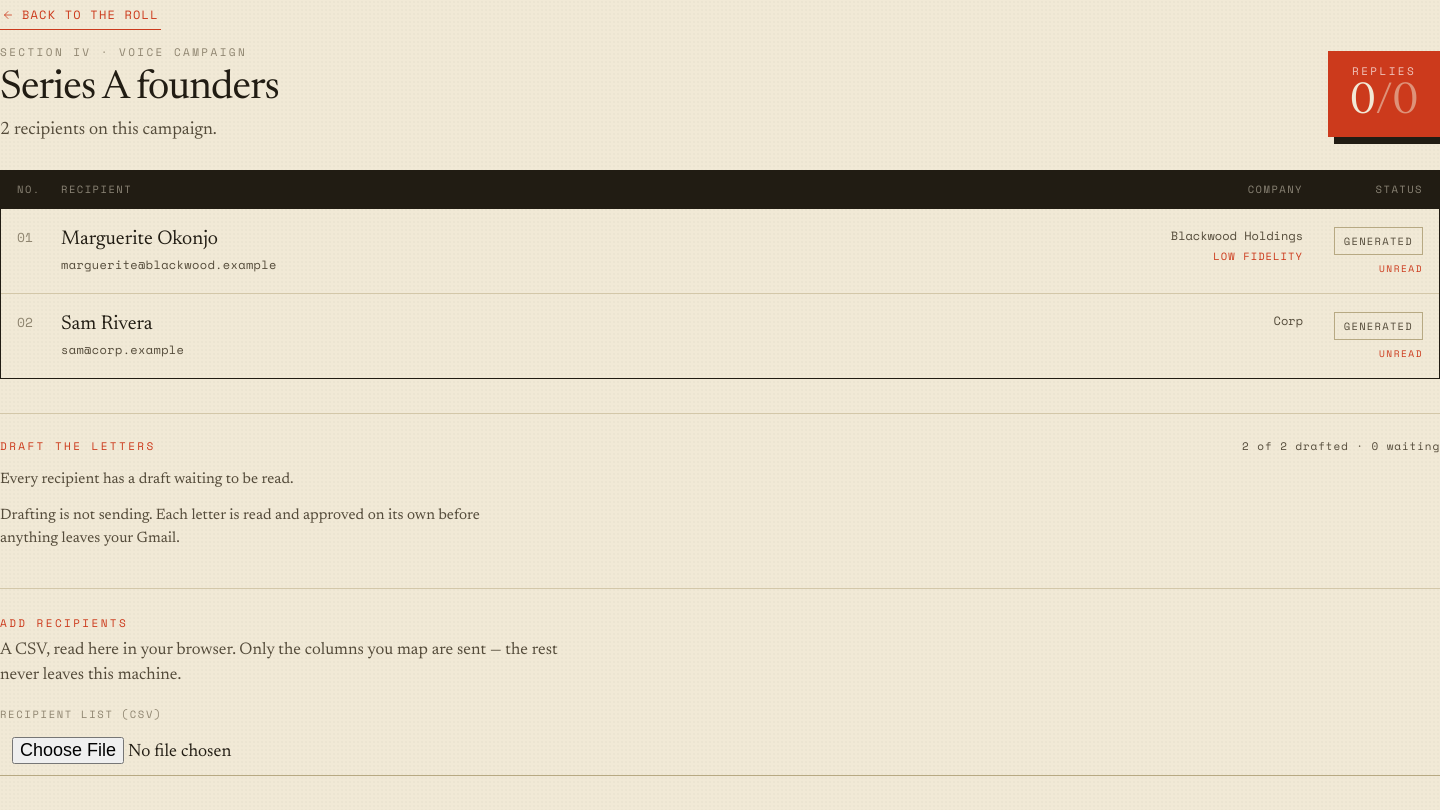
Scenario: the campaign review list › fetches that one letter when its row is opened
Click the text "Marguerite Okonjo": (140, 239) [61,229,218,249]
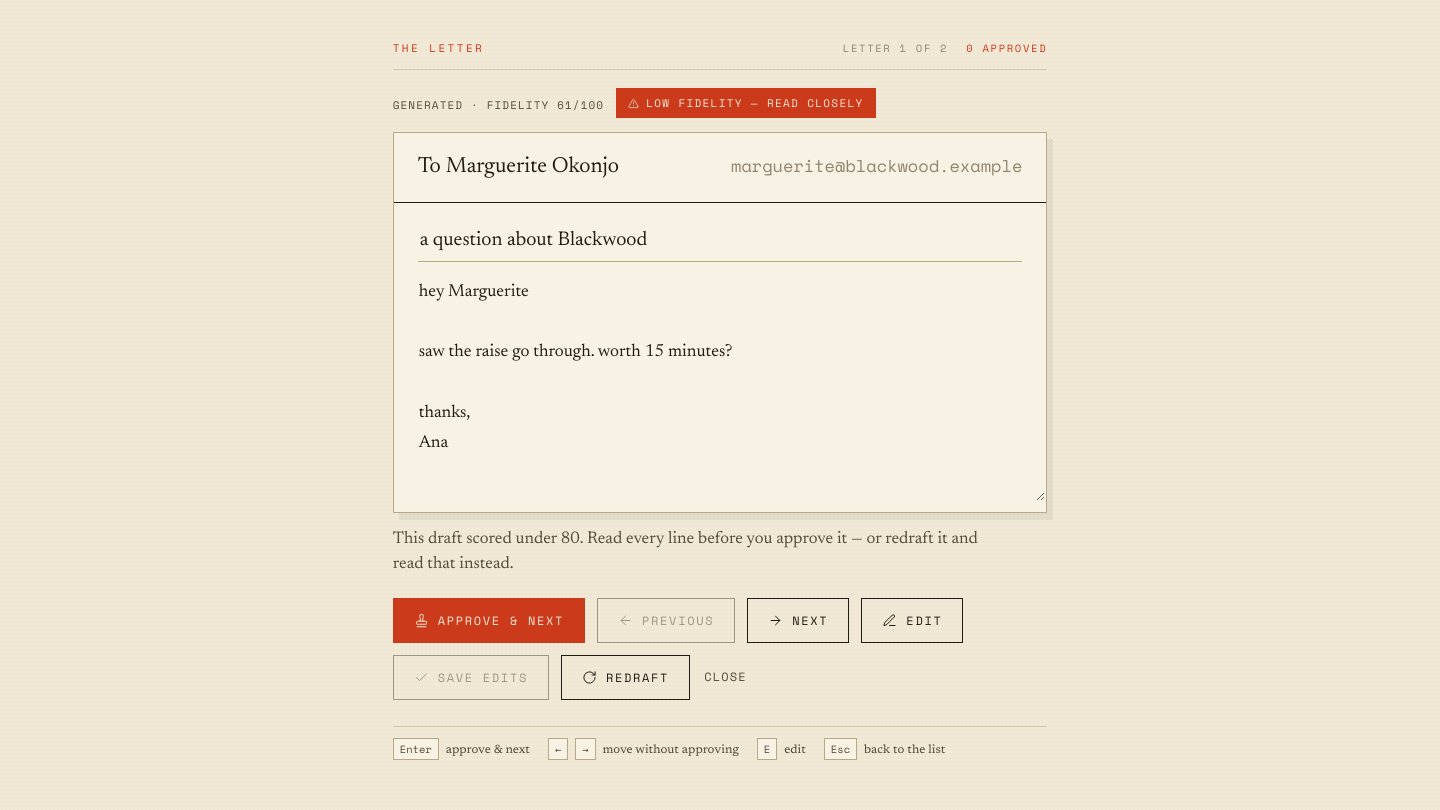
Check: the field showing "a question about Blackwood" is shown, box [418,219,1022,262]
